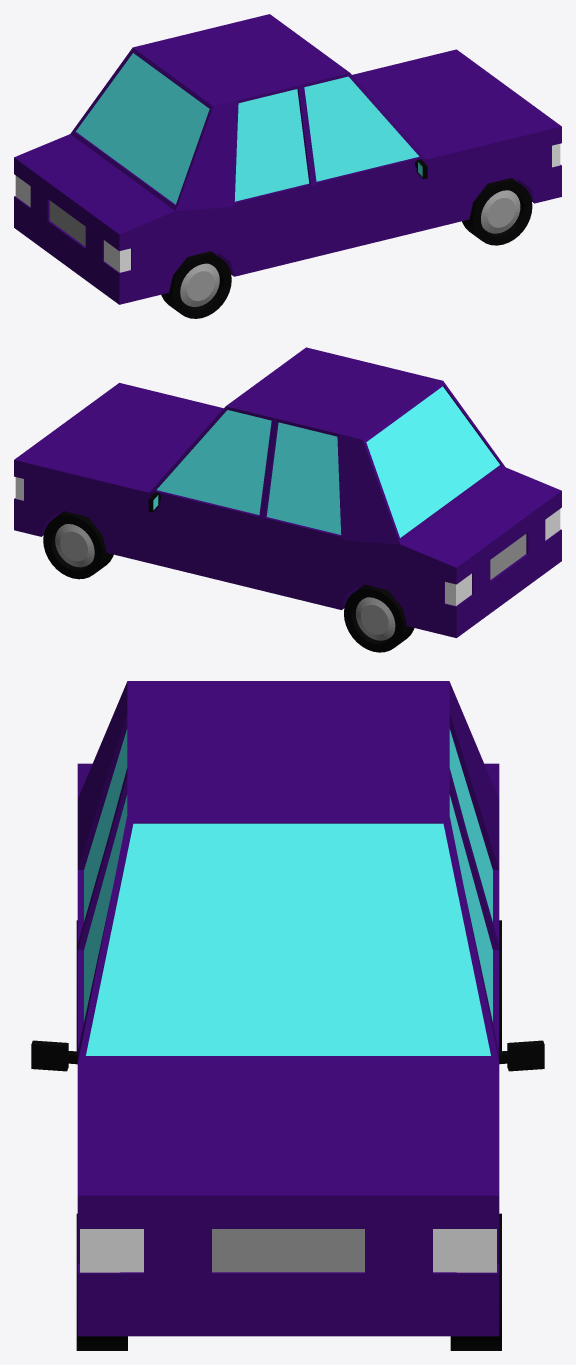
File: Car4.fbx
3 views of the same model, one above another, from view 1: azimuth 30°, elevation 25°; view 2: azimuth 150°, elevation 25°; view 3: azimuth 270°, elevation 25° (orthographic). The views are drawn at different scales.
Parts seen in each view (by area): view 1: Car4; view 2: Car4; view 3: Car4.
Part boxes in pixels (box(x1,y1,x2,y2)): Car4: box(14, 14, 561, 318); Car4: box(14, 347, 561, 652); Car4: box(31, 681, 544, 1350).
Size of the model in its own units: 485 by 206 by 244.
